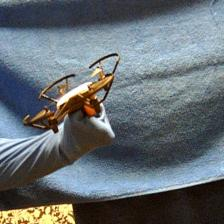drone: (22, 50, 119, 130), (119, 130, 120, 130)
